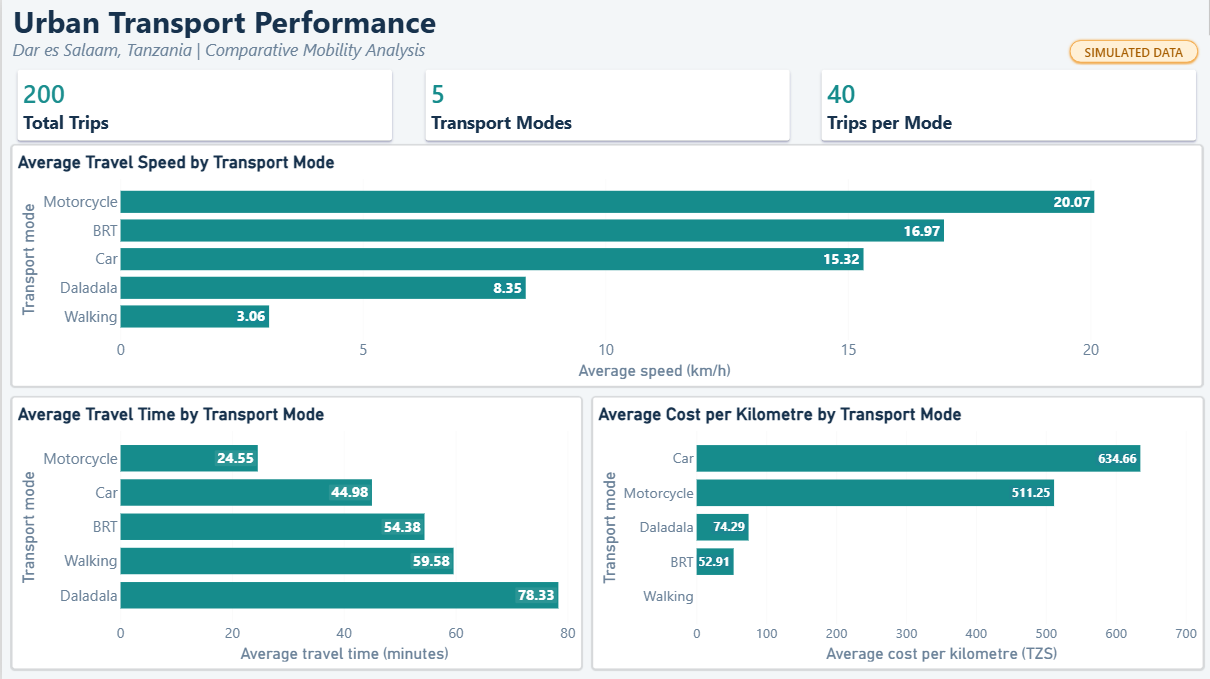

The dashboard page shown, as its layout file describes it:
{"tool":"powerbi","page":{"name":"01- Performance Overview","canvas":[3840,2160],"ordinal":0},"visuals":[{"type":"clusteredBarChart","title":"Average Travel Speed by Transport Mode","fields":{"Category":["public trips.mode"],"Y":["public trips.Average Speed (km/h)"]},"box":[33.4,462.9,3774.5,763.5],"z":0},{"type":"clusteredBarChart","title":"Average Travel Time by Transport Mode","fields":{"Category":["public trips.mode"],"Y":["Avg(public trips.travel_time_min)"]},"box":[35,1260,1805,860],"z":1000},{"type":"clusteredBarChart","title":"Average Cost per Kilometre by Transport Mode","fields":{"Category":["public trips.mode"],"Y":["public trips.Average Cost per KM (TZS)"]},"box":[1875,1260,1935,860],"z":2000},{"type":"textbox","box":[33.3,0,3809.5,119],"z":3000},{"type":"textbox","box":[33.4,119.3,3807.9,85.9],"z":4000},{"type":"cardVisual","fields":{"Data":["public trips.Total Trips"]},"box":[33.4,205.2,1221.6,257.7],"z":5000},{"type":"cardVisual","fields":{"Data":["public trips.Transport Modes"]},"box":[1326.6,205.2,1188,257.7],"z":6000},{"type":"cardVisual","fields":{"Data":["public trips.Trips per Mode"]},"box":[2586.3,205.2,1221.6,257.7],"z":7000},{"type":"shape","box":[3381.6,117.1,424.5,87.8],"z":8000}]}

Visuals, with their boxes in screenshot pixels (x1, y1, x2, y2), scaled from the page's 3840x2160 canvas onto the 1210x679 screenshot:
"Average Travel Speed by Transport Mode" clusteredBarChart: left=11, top=146, right=1200, bottom=386
"Average Travel Time by Transport Mode" clusteredBarChart: left=11, top=396, right=580, bottom=666
"Average Cost per Kilometre by Transport Mode" clusteredBarChart: left=591, top=396, right=1201, bottom=666
textbox: left=10, top=0, right=1209, bottom=37
textbox: left=11, top=38, right=1209, bottom=65
cardVisual - public trips.Total Trips: left=11, top=65, right=395, bottom=146
cardVisual - public trips.Transport Modes: left=418, top=65, right=792, bottom=146
cardVisual - public trips.Trips per Mode: left=815, top=65, right=1200, bottom=146
shape: left=1066, top=37, right=1199, bottom=64
